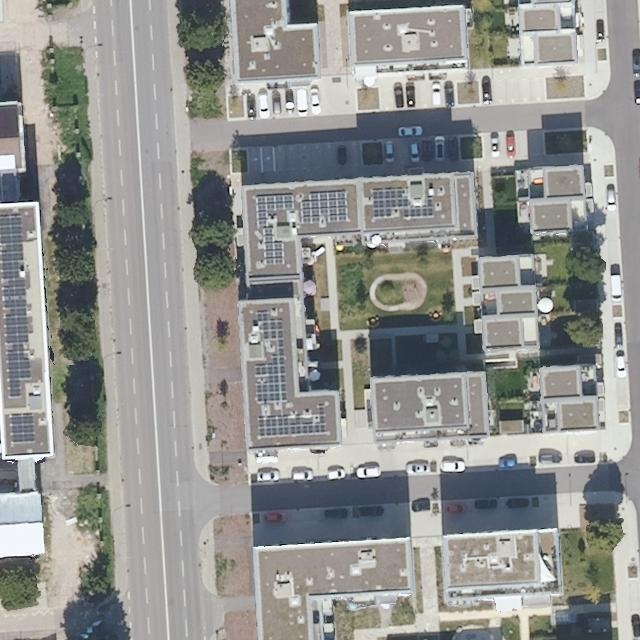PV: (0, 213, 34, 401), (254, 308, 290, 406), (254, 399, 331, 440), (369, 186, 438, 220), (299, 189, 350, 227), (254, 191, 296, 230), (8, 411, 38, 447), (261, 224, 286, 267)
